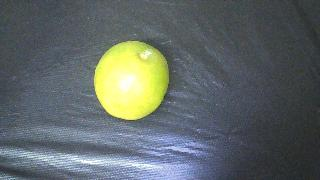LOCAL: (94, 41, 169, 120)
